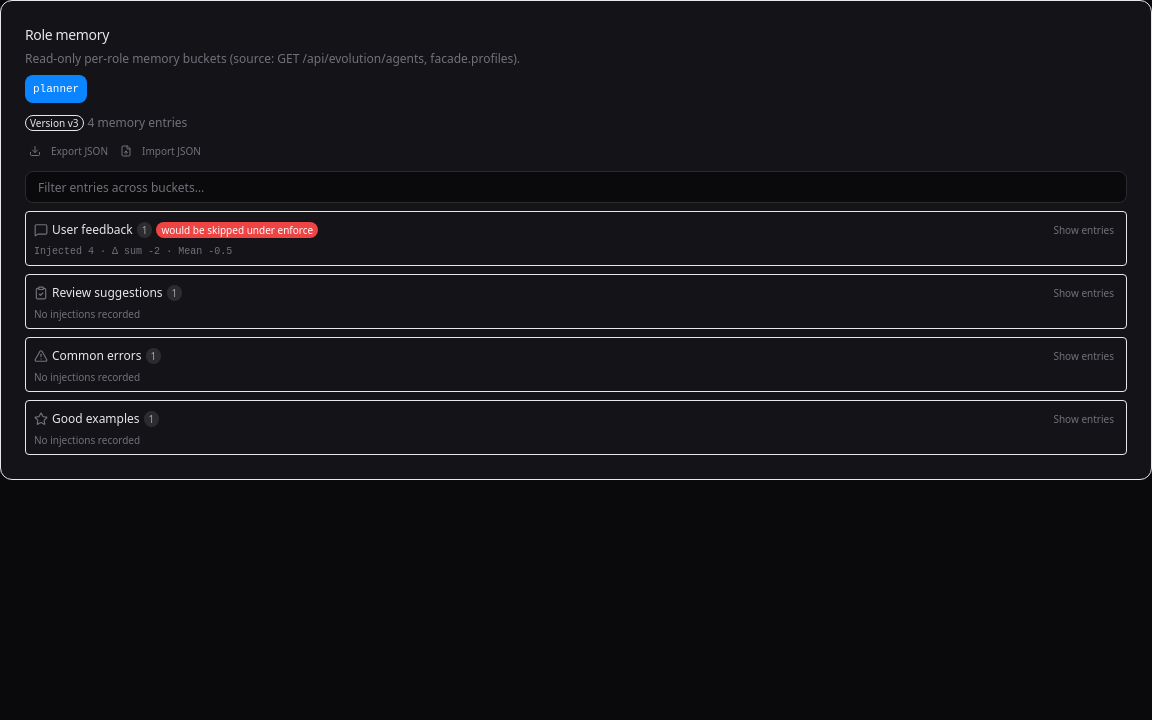
Test case: MemoryDomain bucket glyphs + gating tooltip › the tooltip hides again on a second click
Click the button with test id "memory-gating-userFeedback": point(237, 230) [156,222,318,238]
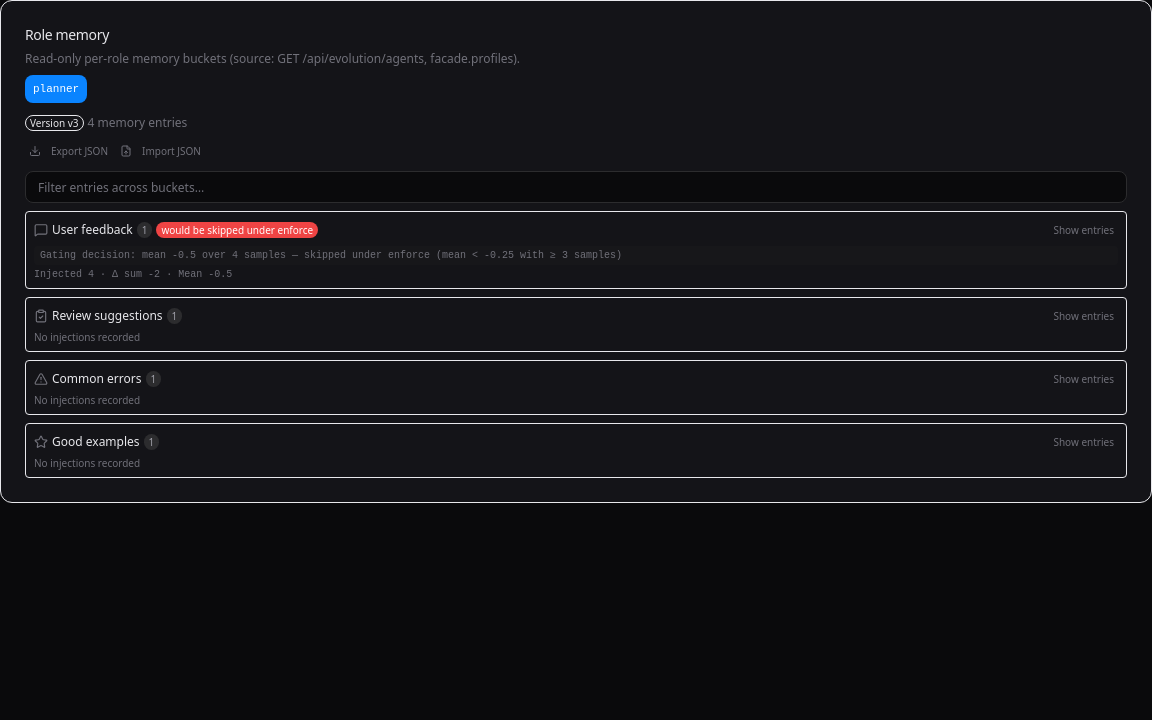
Expected: the text with test id "memory-gating-detail-userFeedback" is shown, [34,246,1118,265]
Click the button with test id "memory-gating-userFeedback": point(237, 230) [156,222,318,238]
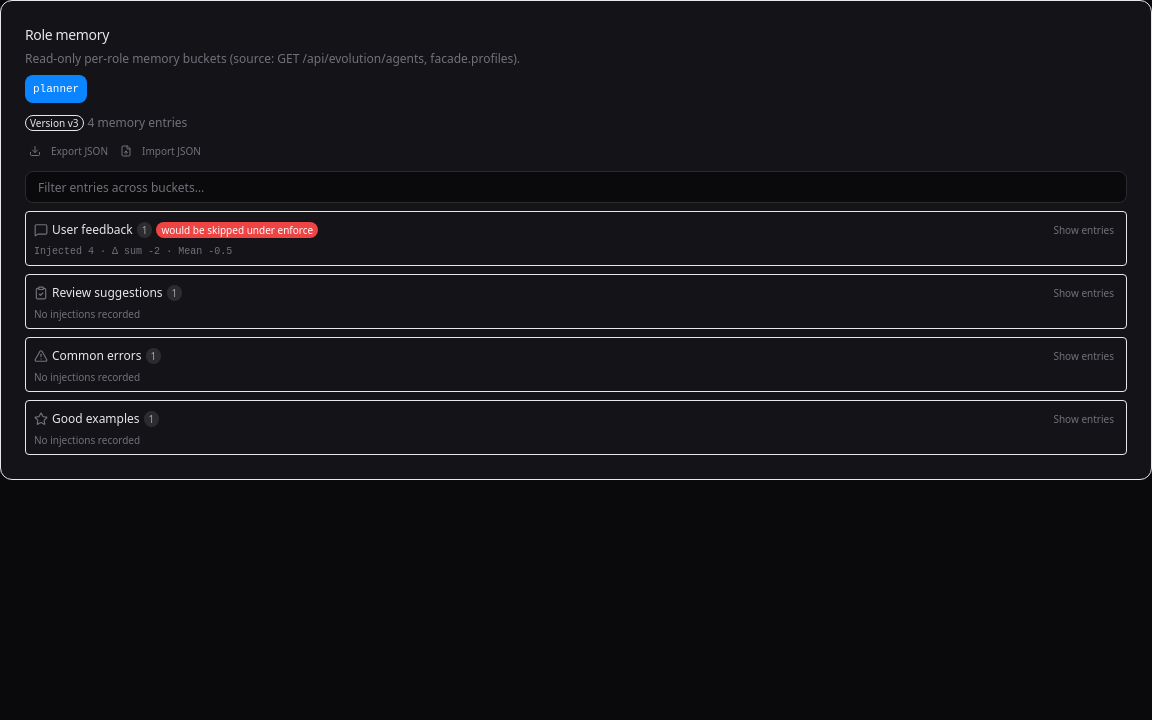
Expected: the text with test id "memory-gating-detail-userFeedback" is gone
